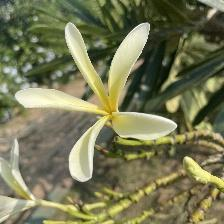champaka: (15, 20, 179, 185)
